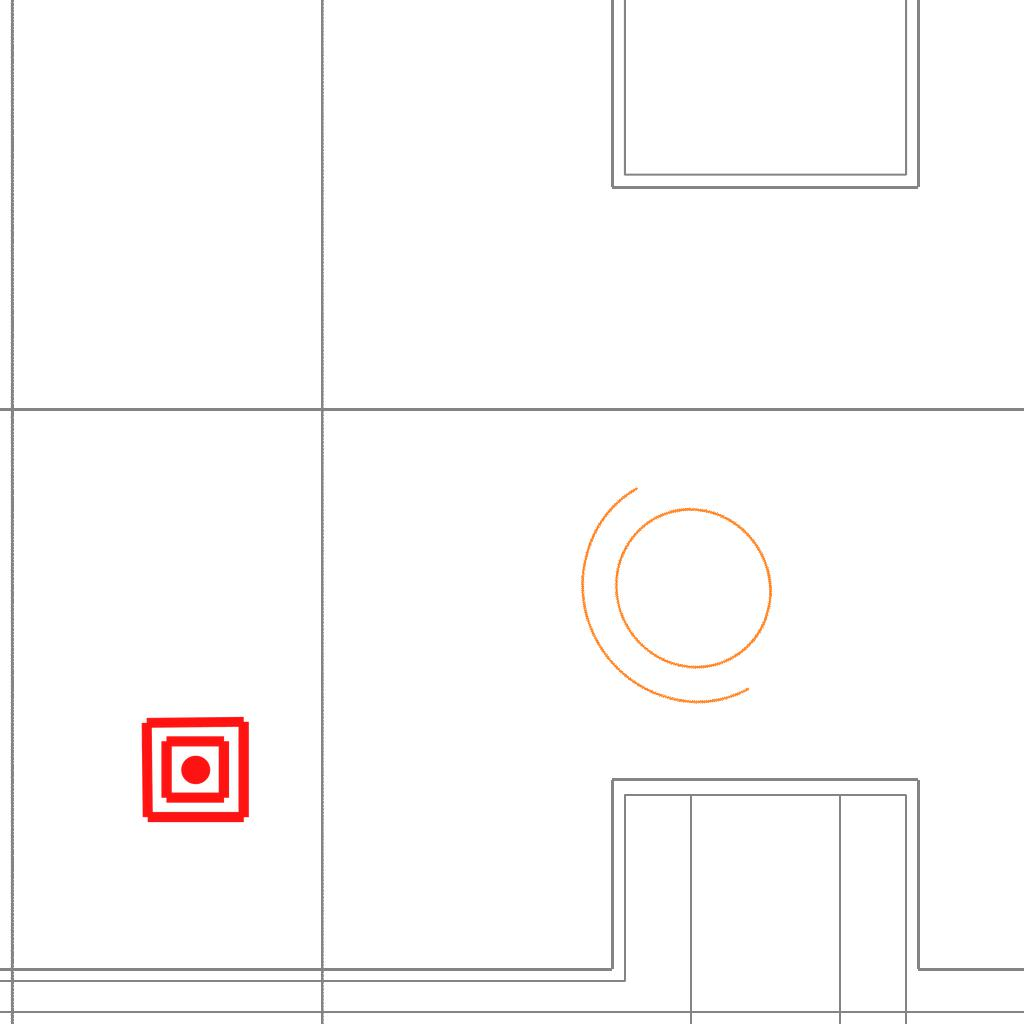NAM-Nichtautomatischer_Melder: (139, 713, 252, 826)
Scheinwerfer_fuer_Alarmbeleuchtung: (525, 428, 851, 769)
